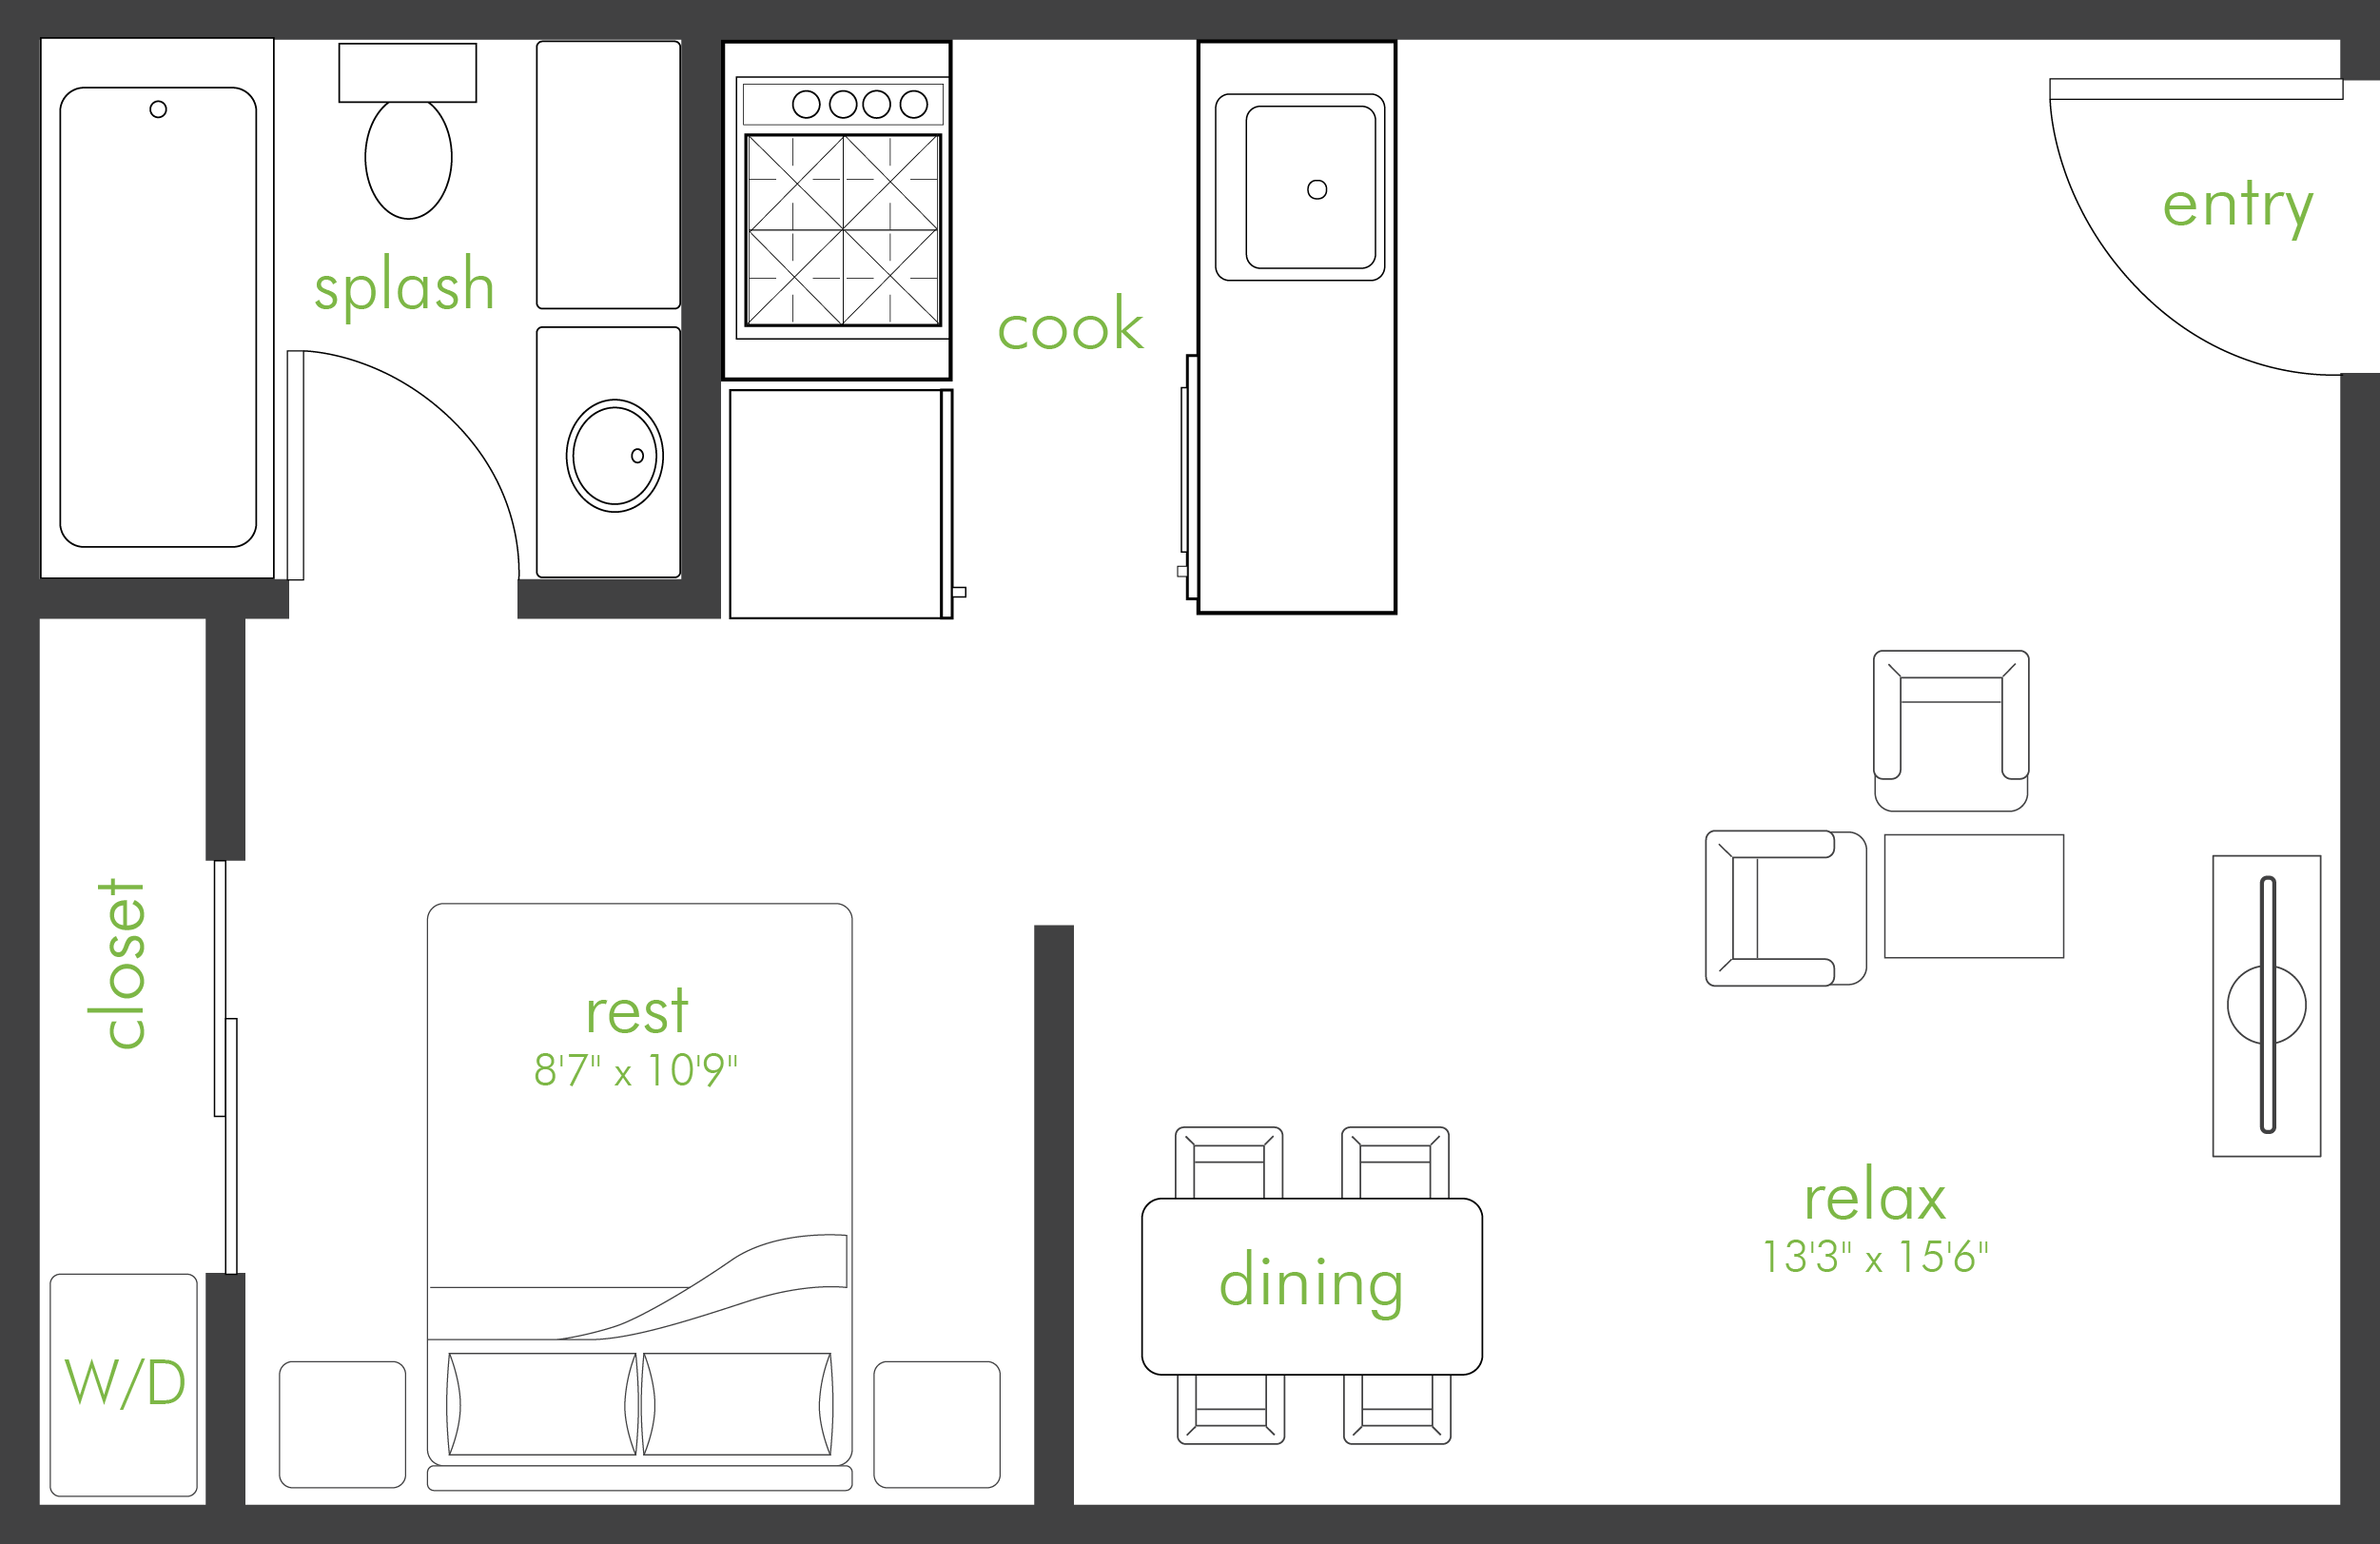wall: (5, 2, 2371, 36), (5, 7, 47, 1535), (1084, 1511, 2366, 1539), (2347, 373, 2375, 1539), (7, 1508, 1072, 1534), (1034, 925, 1065, 1542), (682, 9, 711, 612), (40, 578, 281, 612), (213, 604, 239, 845), (524, 583, 715, 612), (212, 1272, 234, 1516)
